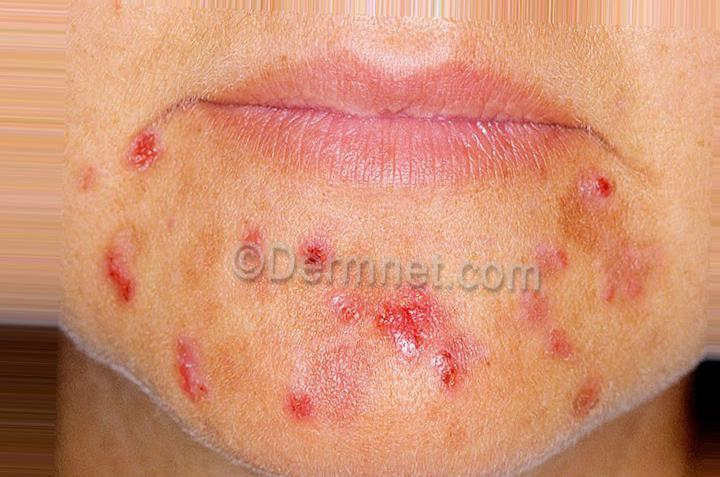Acne: (369, 292, 492, 390), (90, 229, 160, 321), (157, 328, 229, 399), (110, 115, 166, 168), (290, 230, 344, 279), (284, 391, 340, 432)
